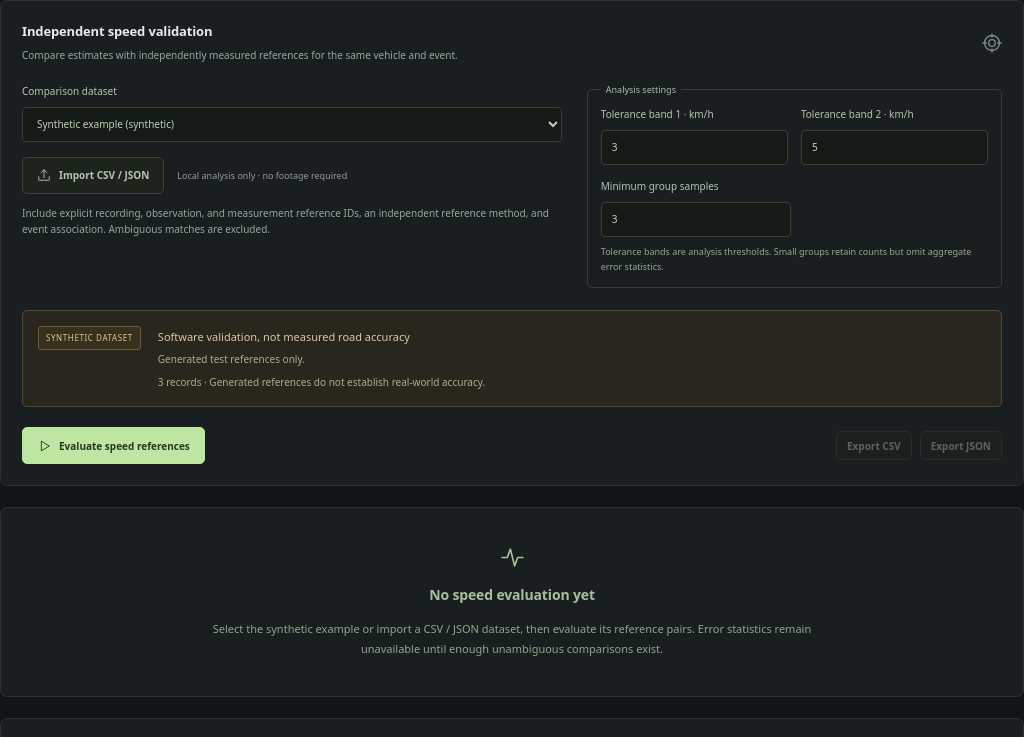
Test: validation and benchmark workspace › retains original values and withholds aggregate metrics for an empty dataset
The image size is (1024, 737).
Click the button "Evaluate speed references": (113, 446) [22, 427, 205, 464]
(page scrolled)
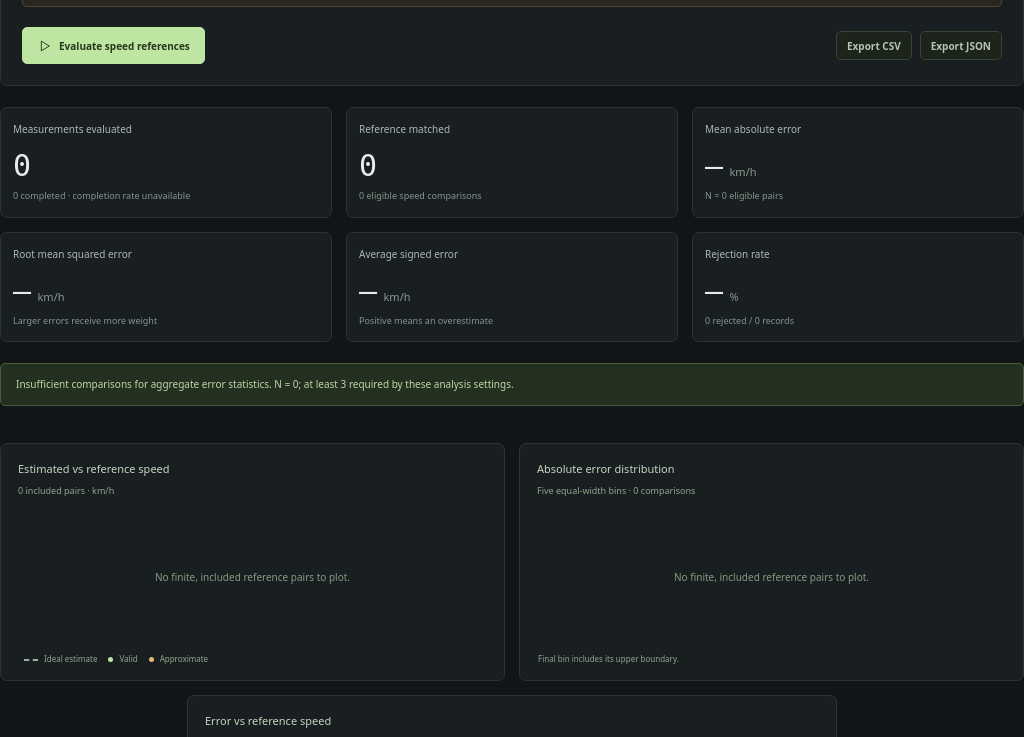
Expected: the text "Insufficient comparisons" is shown, [16, 377, 290, 391]
